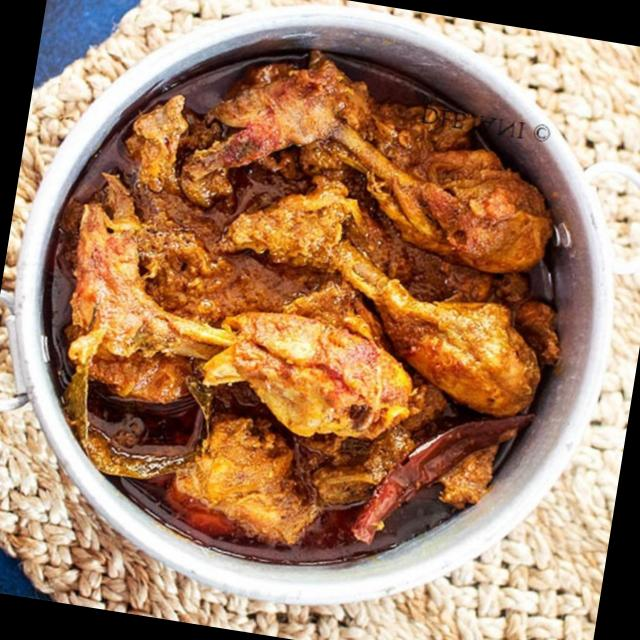chicken: (59, 28, 602, 591)
